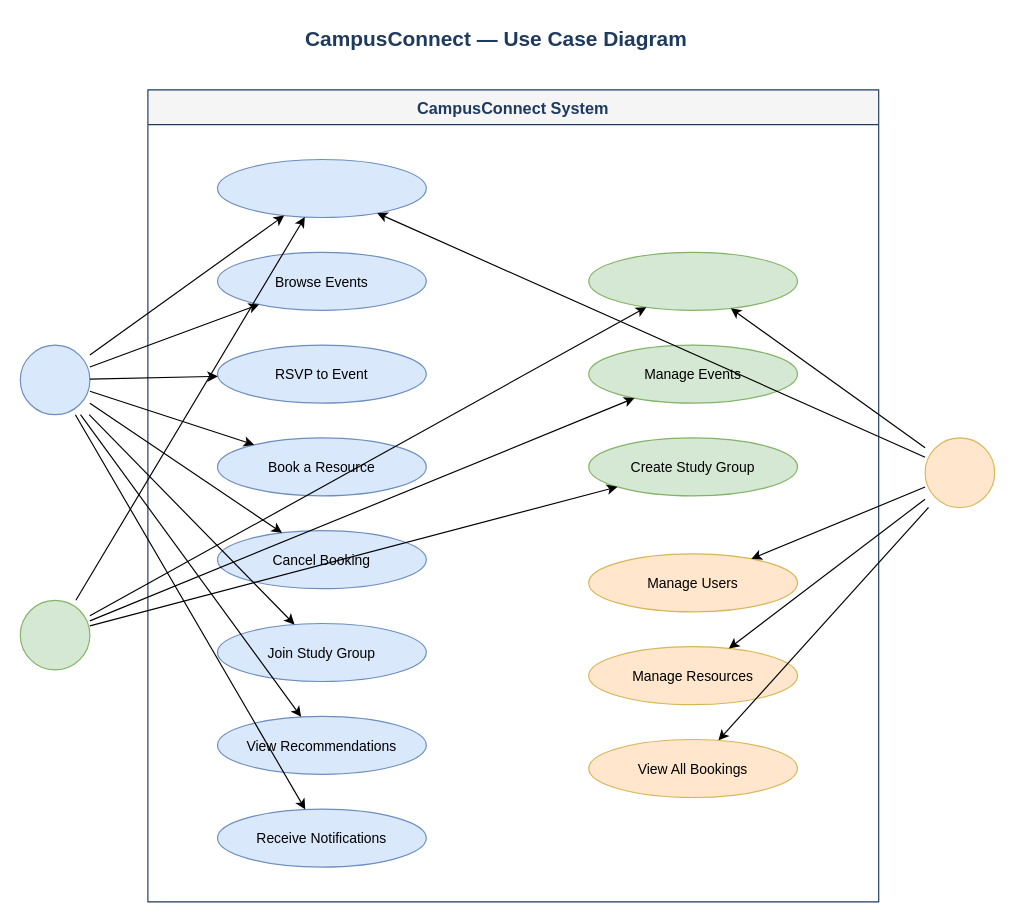
The diagram is 1015 pixels wide and 922 high, and some of its shapes have lost their labels. Each missing label, with the centre of its shape:
"Admin" goes at pixel 959 472.
"Create Event" goes at pixel 693 280.
"Lecturer" goes at pixel 54 634.
"Register / Login" goes at pixel 321 187.
"Student" goes at pixel 54 379.
